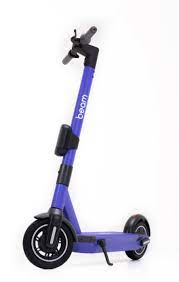kick_board: (22, 26, 150, 270)
kick_body: (77, 231, 132, 249)
kick_handler: (60, 26, 99, 67)
kick_neck: (50, 68, 98, 206)
kick_wheel: (24, 214, 74, 270), (125, 216, 151, 262)
